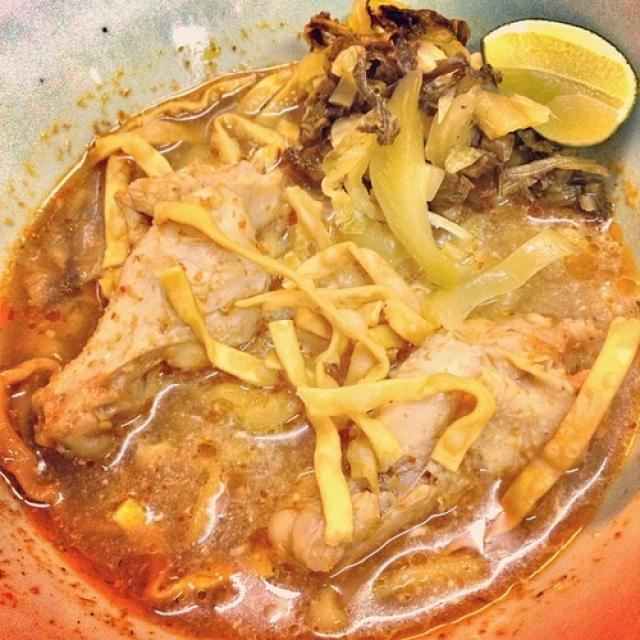面条主食: (1, 5, 635, 626)
